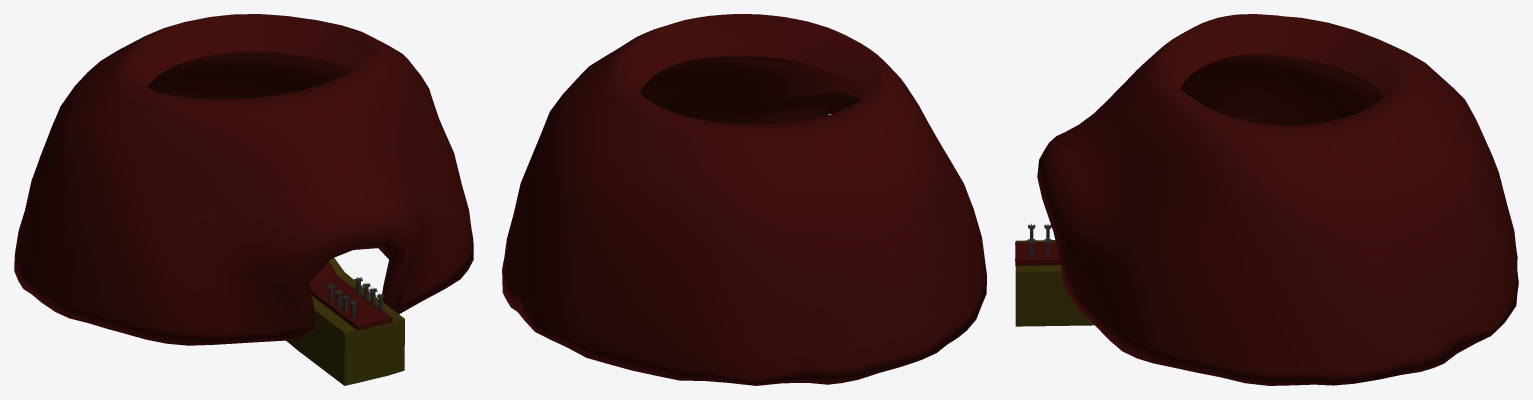
The model's file is Zona_boss (3).fbx.
The picture shows the model from 3 angles, left to right: view 1: azimuth 30°, elevation 25°; view 2: azimuth 150°, elevation 25°; view 3: azimuth 270°, elevation 25°; orthographic projection. The views are drawn at different scales.
Parts seen in each view (by area): view 1: Sphere, Cylinder.001, Cube.001, Cube.004; view 2: Sphere; view 3: Sphere, Cylinder.001, Cube.001.
Boxes of the visible parts, x1,y1,x2,y2 form: Sphere: (14, 14, 473, 345); Cylinder.001: (286, 258, 404, 385); Cube.001: (310, 261, 392, 330); Cube.004: (327, 277, 385, 317); Sphere: (502, 14, 986, 385); Sphere: (1037, 14, 1518, 385); Cylinder.001: (1015, 240, 1094, 326); Cube.001: (1015, 241, 1060, 265).
Bounding box in the file's own units: 50558 × 28274 × 51471.
